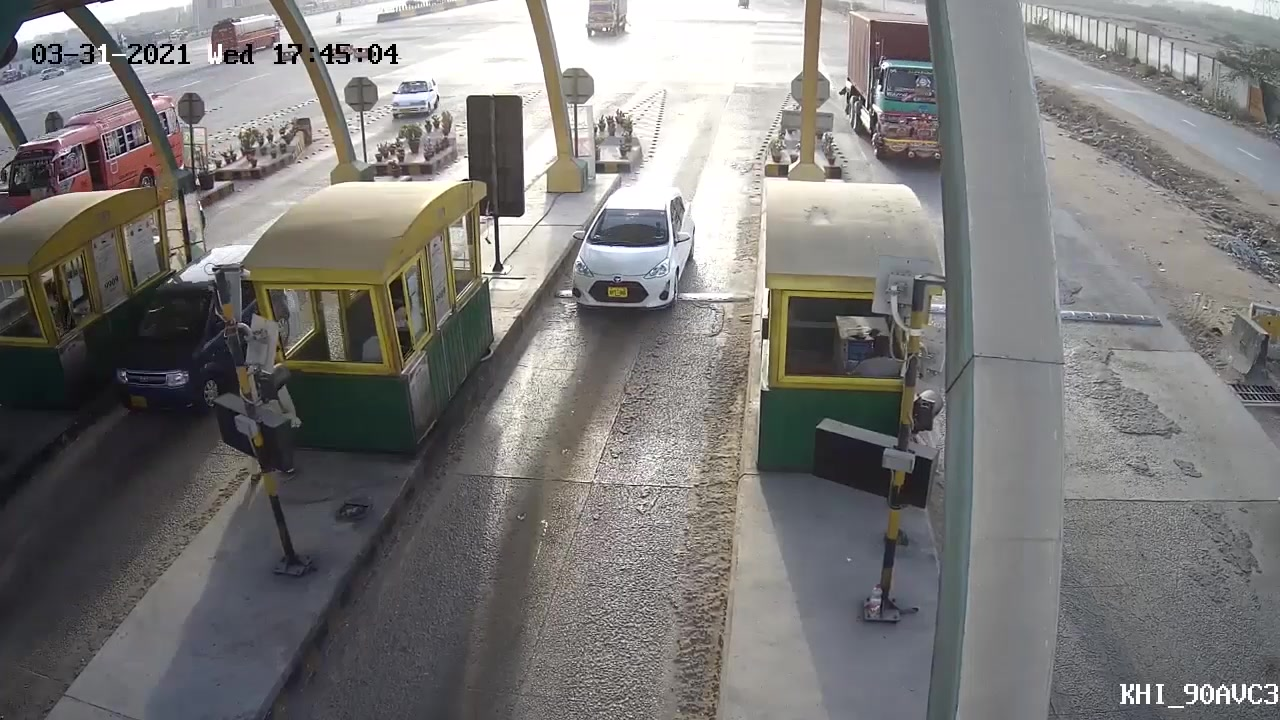F1: (572, 178, 701, 355)
